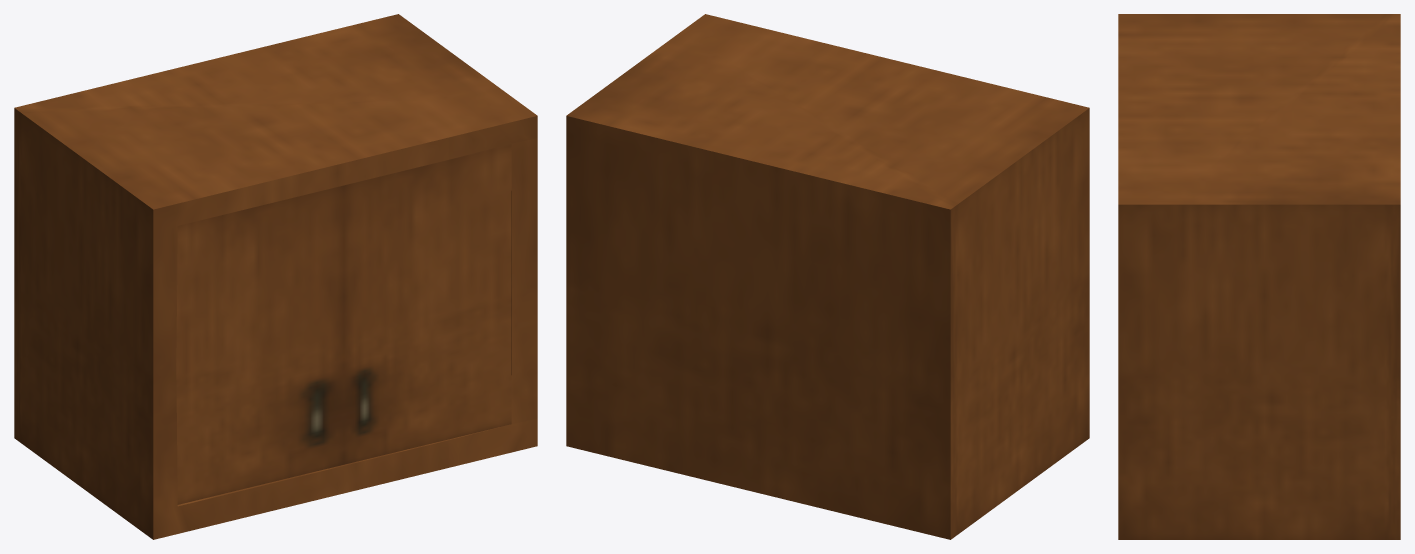
The model's file is KitchenCupboard.fbx.
The picture shows the model from 3 angles, left to right: view 1: azimuth 30°, elevation 25°; view 2: azimuth 150°, elevation 25°; view 3: azimuth 270°, elevation 25°; orthographic projection.
Parts seen in each view (by area): view 1: KitchenCupboard, KitchenCupboardDoorR, KitchenCupboardDoorL; view 2: KitchenCupboard; view 3: KitchenCupboard.
Part boxes in pixels (bbox=[...]): KitchenCupboard: bbox=[14, 14, 537, 539]; KitchenCupboardDoorR: bbox=[344, 144, 511, 464]; KitchenCupboardDoorL: bbox=[176, 185, 343, 504]; KitchenCupboard: bbox=[566, 14, 1089, 539]; KitchenCupboard: bbox=[1118, 14, 1400, 539].
Bounding box in the file's own units: 248 × 155 × 204.
